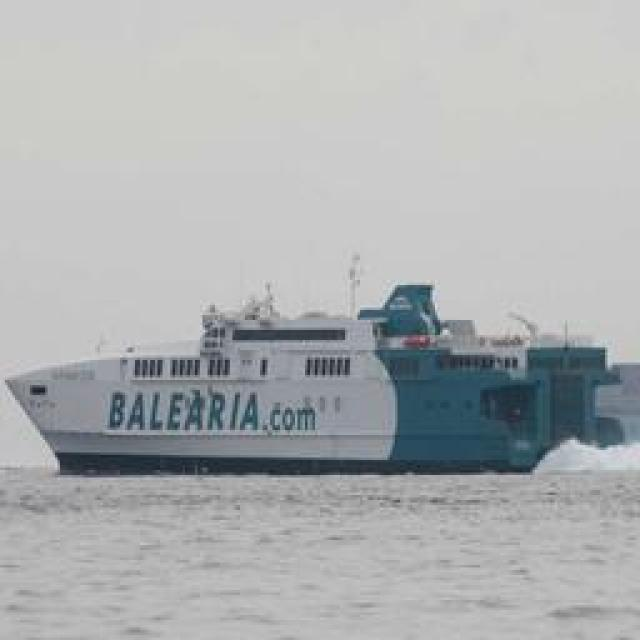Ship: (12, 284, 625, 477)
